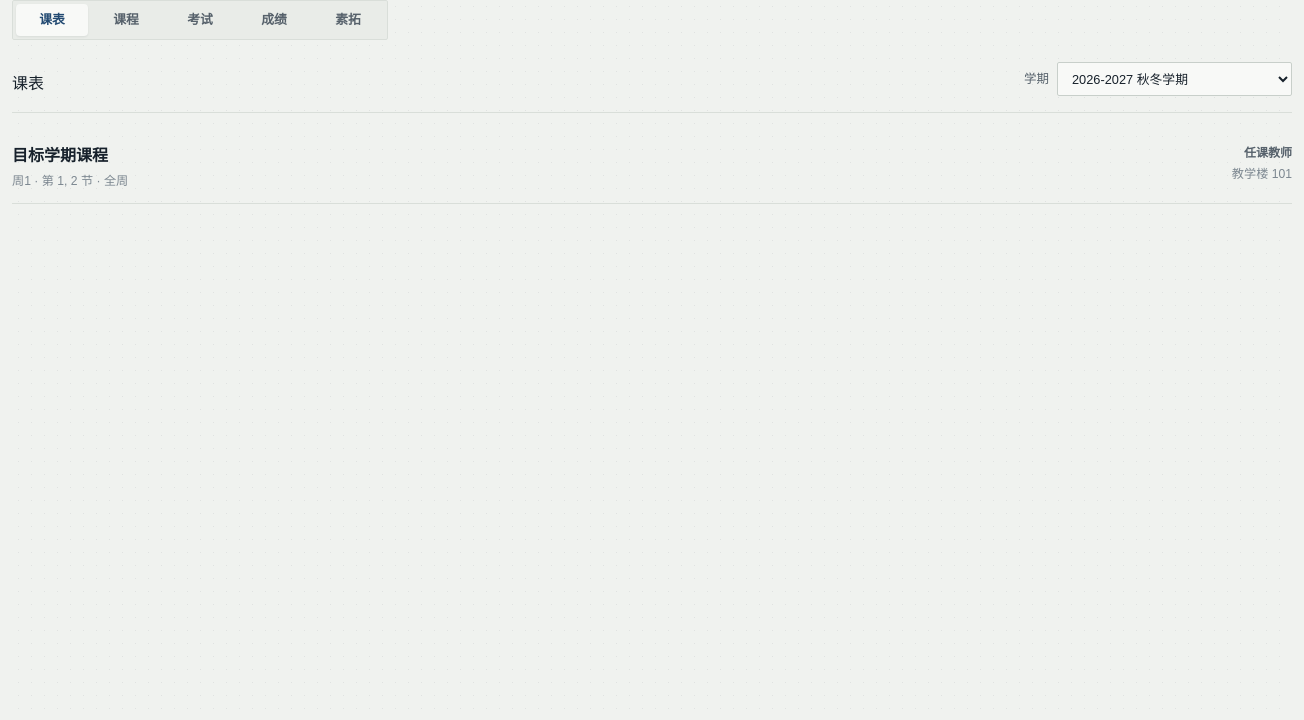
it: AcademicView › exposes five internal tabs and reads the selected academic capabilities
Expected: the button "课表" is shown, 16,4 -> 88,36
Expected: the button "考试" is shown, 164,4 -> 236,36
Click the button "课程". click: (126, 20)
box: 90,4 -> 162,36
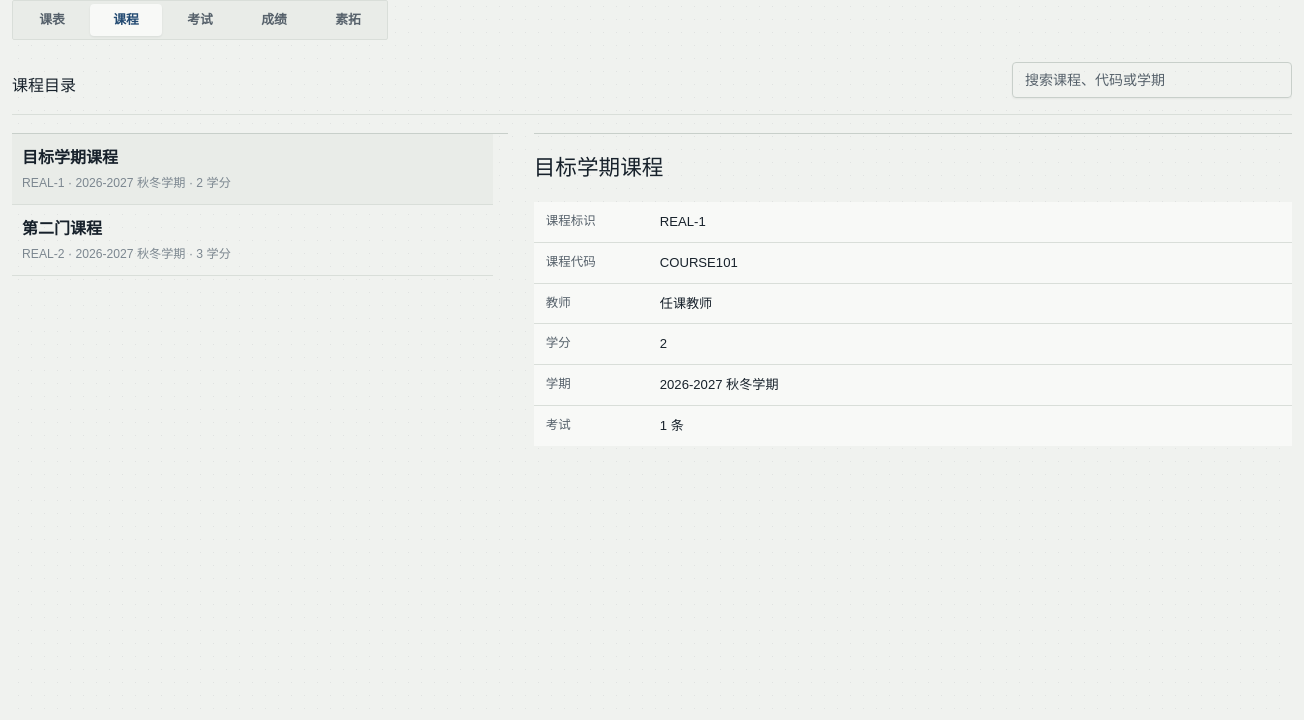
Result: the field with placeholder "搜索课程、代码或学期" is shown
Type "COURSE101" into the field labelled "搜索课程". click: (1152, 80)
box: 1012,62 -> 1292,98
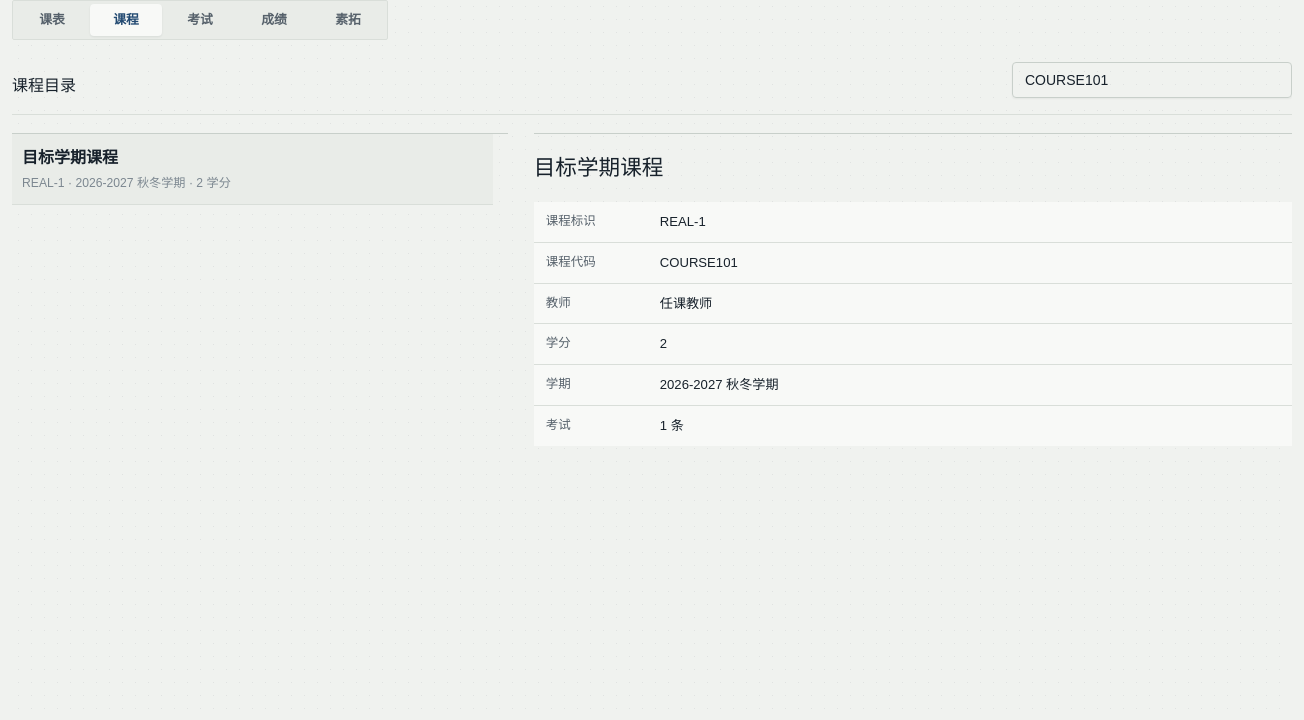
Result: the text "REAL-1" is shown at 660,214 -> 706,229
Clear the field named "搜索课程". click: (1152, 80)
box: 1012,62 -> 1292,98
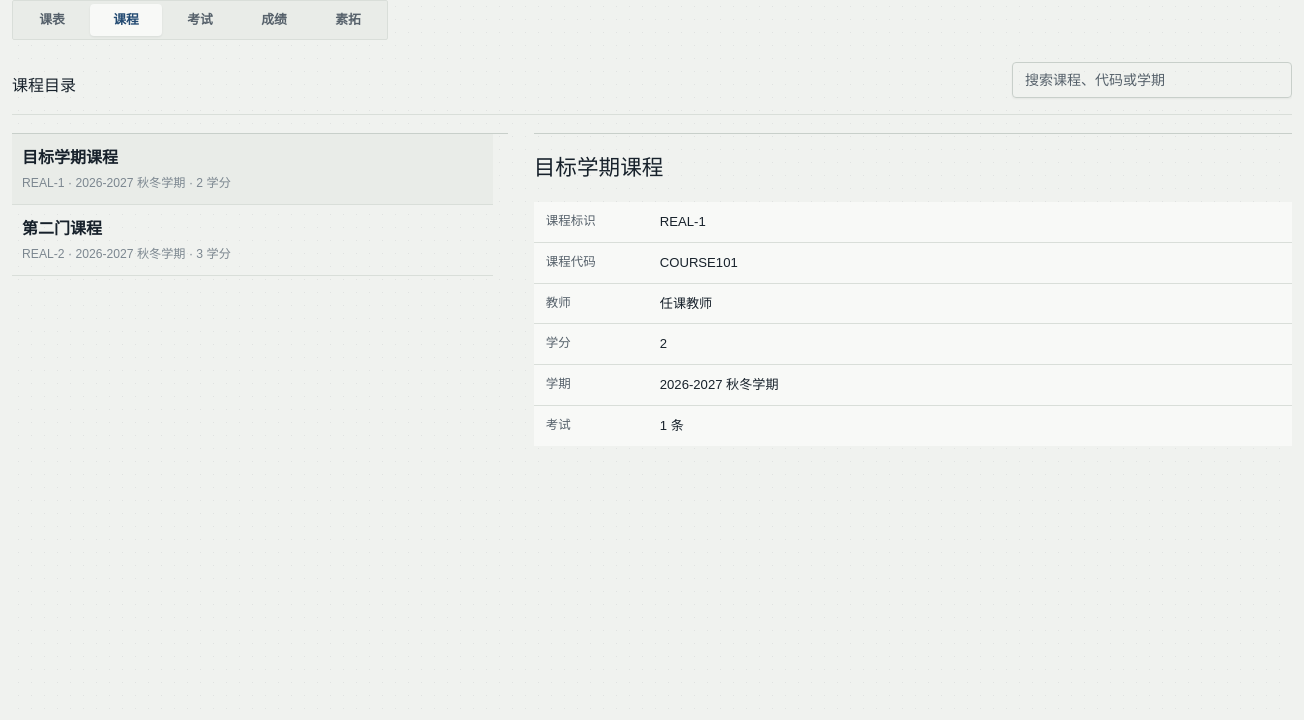
Click the button "第二门课程 REAL-2 · 2026-2027 秋冬学期 · 3 学分". click: (62, 229)
box: 12,205 -> 493,276
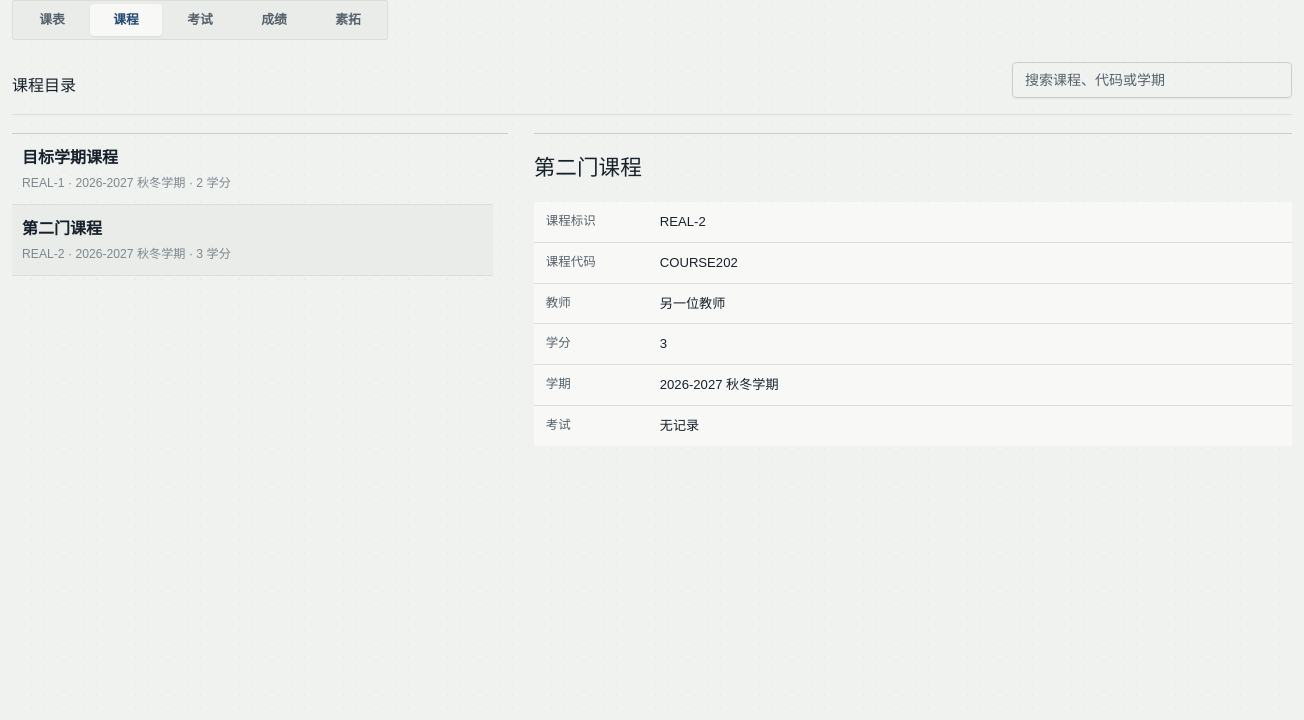
Result: the text "REAL-2" is shown at 660,214 -> 706,229
Type "COURSE101" into the field labelled "搜索课程". click: (1152, 80)
box: 1012,62 -> 1292,98
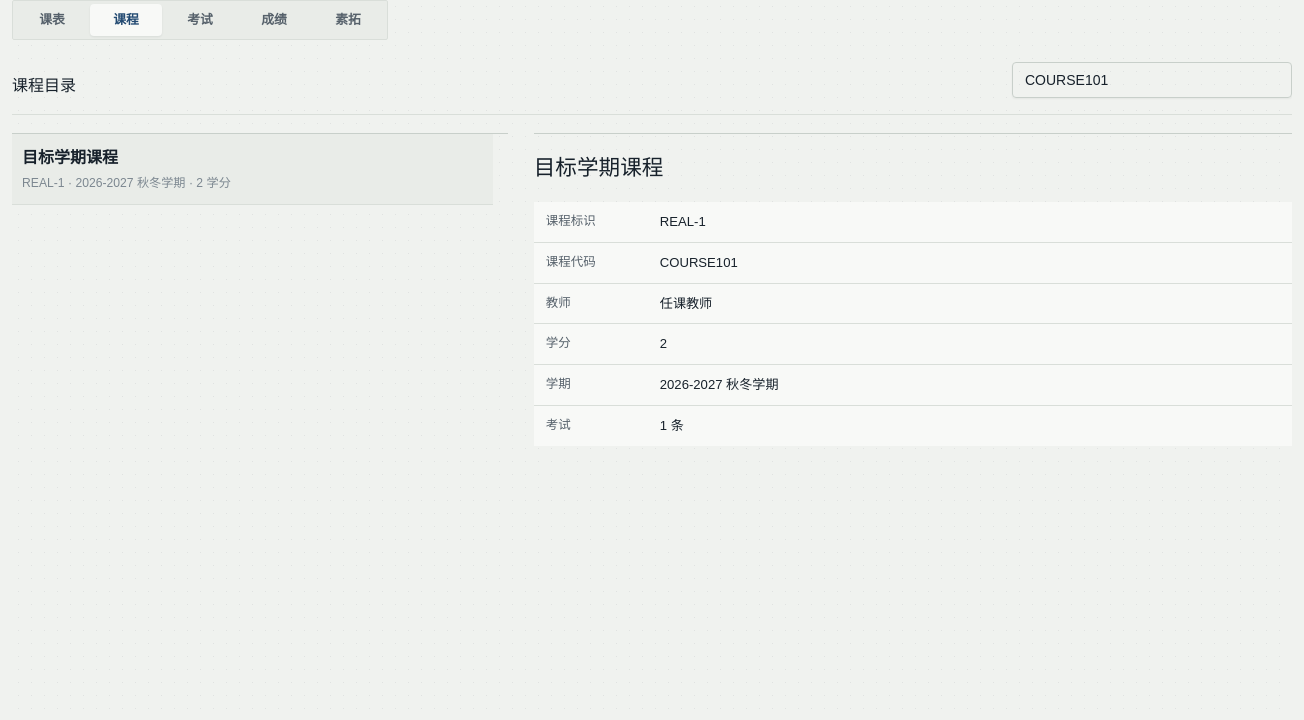
Result: the text "REAL-1" is shown at 660,214 -> 706,229
Result: the button "REAL-2" is gone
Click the button "素拓". click: (348, 20)
box: 312,4 -> 384,36
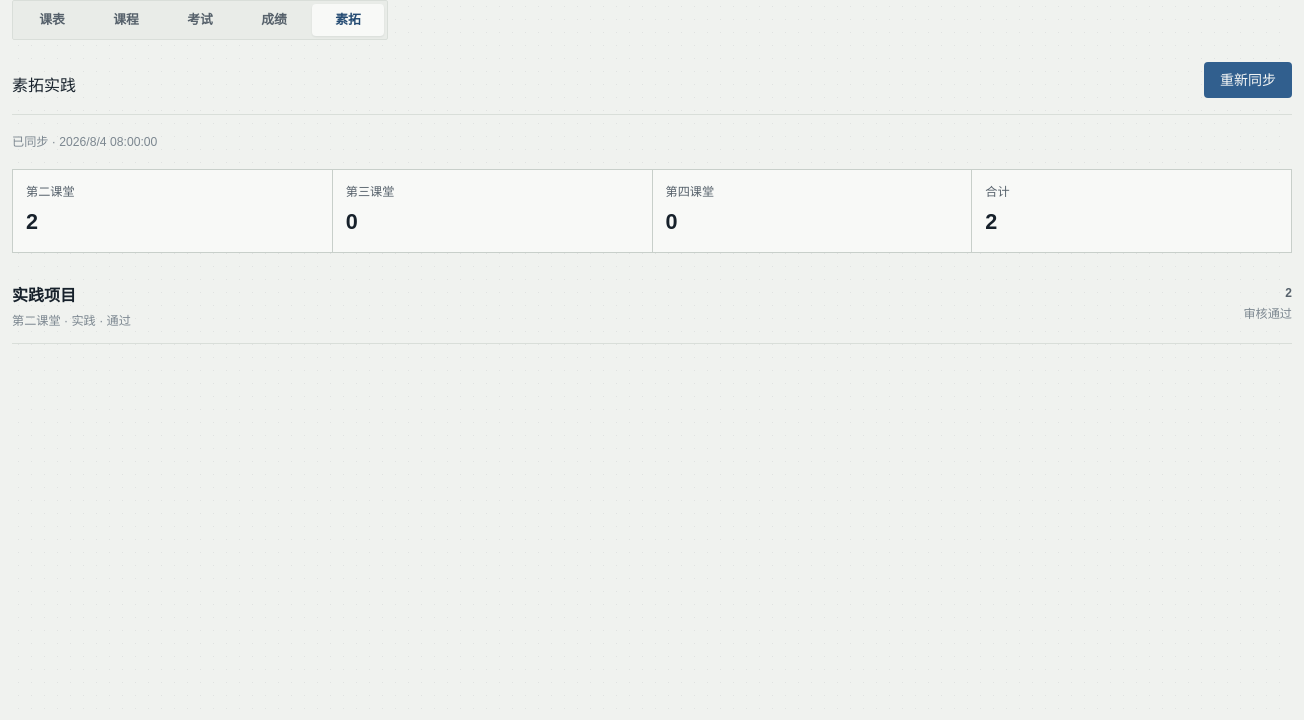
Result: the text "实践项目" is shown at 12,287 -> 76,304
